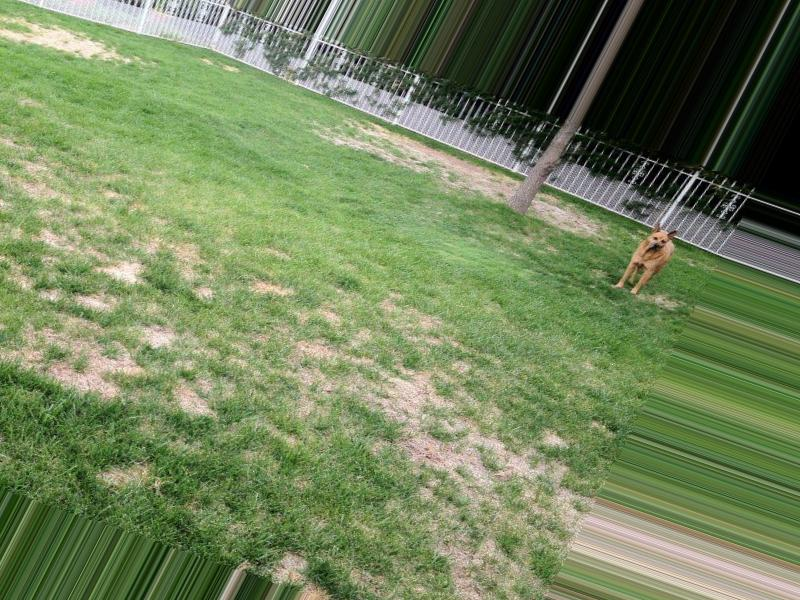patch: (30, 276, 151, 375), (422, 432, 524, 491), (370, 368, 439, 417), (40, 28, 74, 50), (437, 157, 466, 172)
